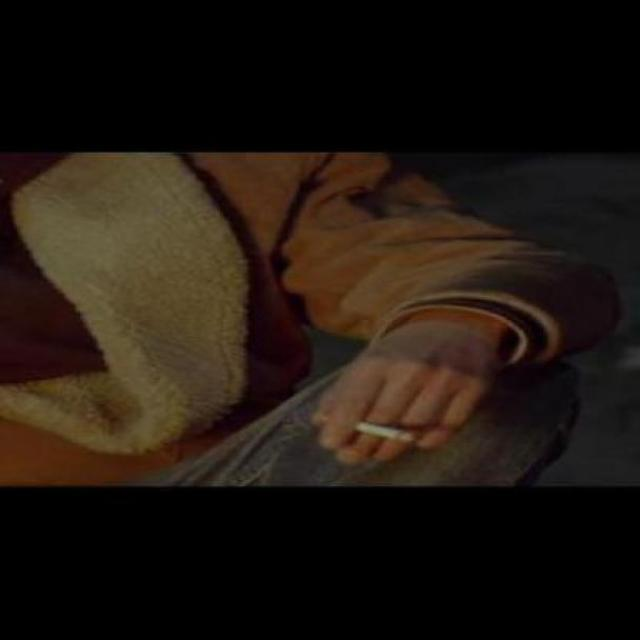rokok: (312, 409, 420, 451)
